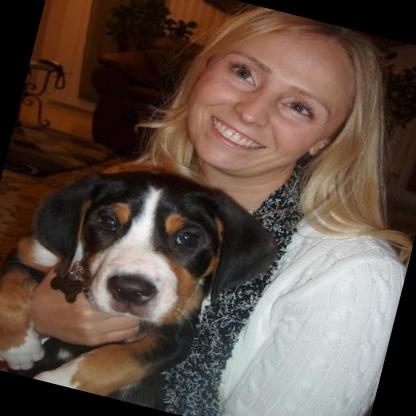Greater_Swiss_Mountain_dog: (0, 134, 287, 416)
